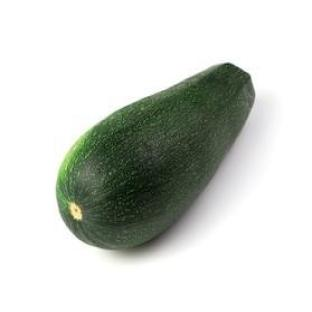Zucchini: (58, 64, 254, 248)
